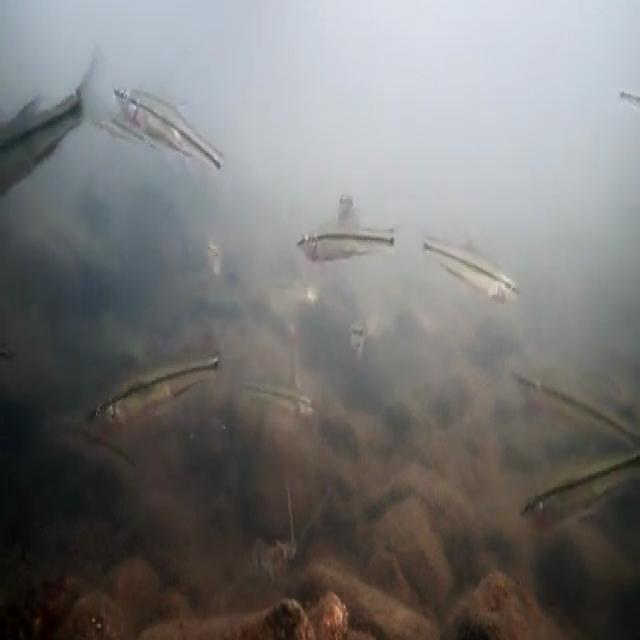Cakil Baligi: (89, 347, 224, 440), (110, 73, 228, 179), (421, 231, 522, 313), (296, 214, 400, 271)
